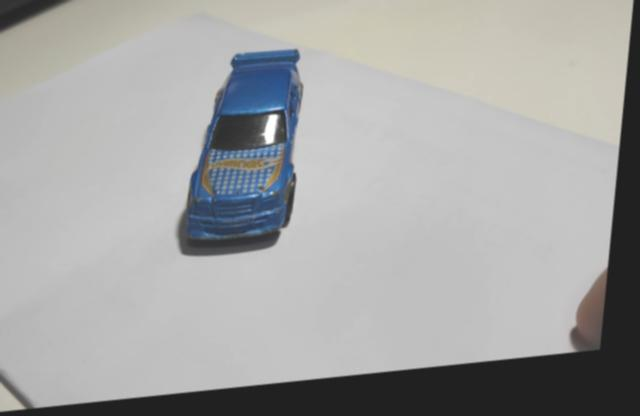04_MERZEDES: (185, 55, 307, 251)
